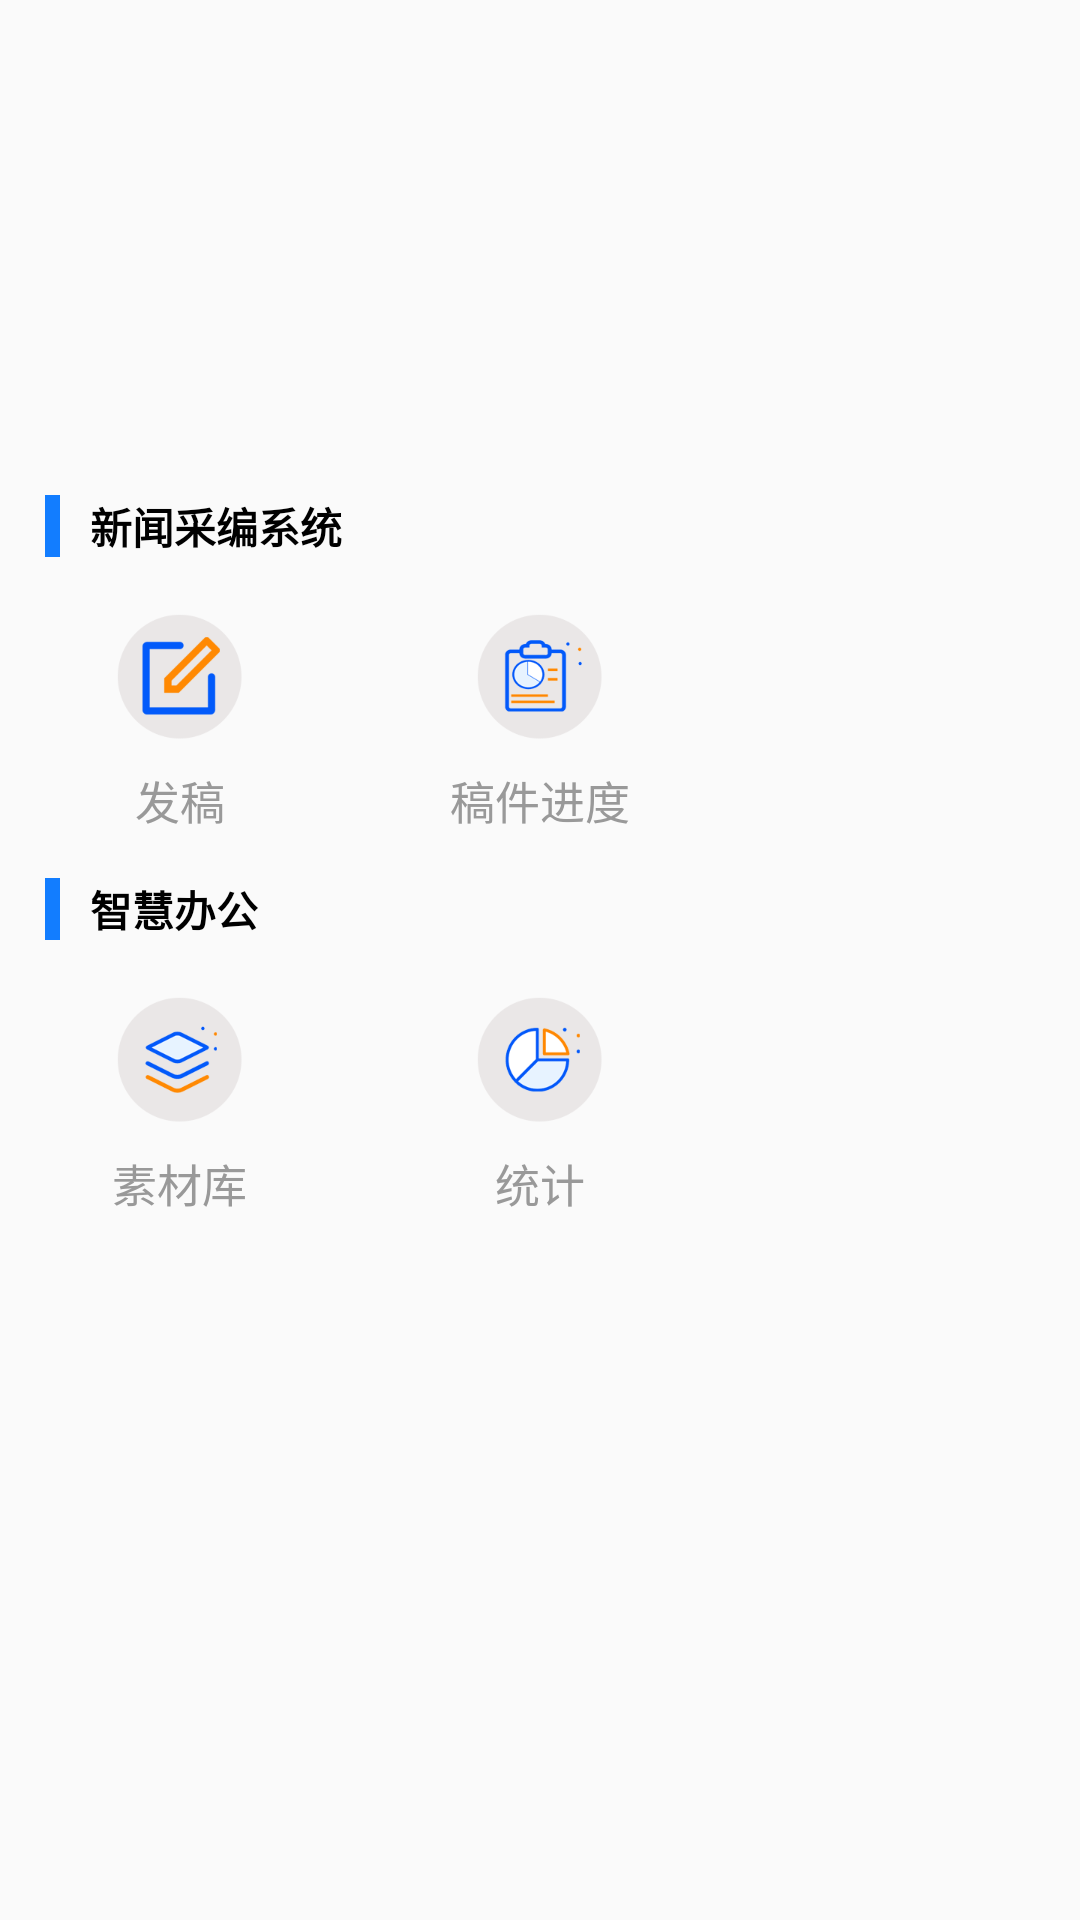

Locate icon controls on the screen. Image size 1080x1920, boxes as [left=x1, top=y1, right=x2, bottom=y2].
chart: [left=478, top=998, right=602, bottom=1122]
write article: [left=118, top=615, right=242, bottom=739]
